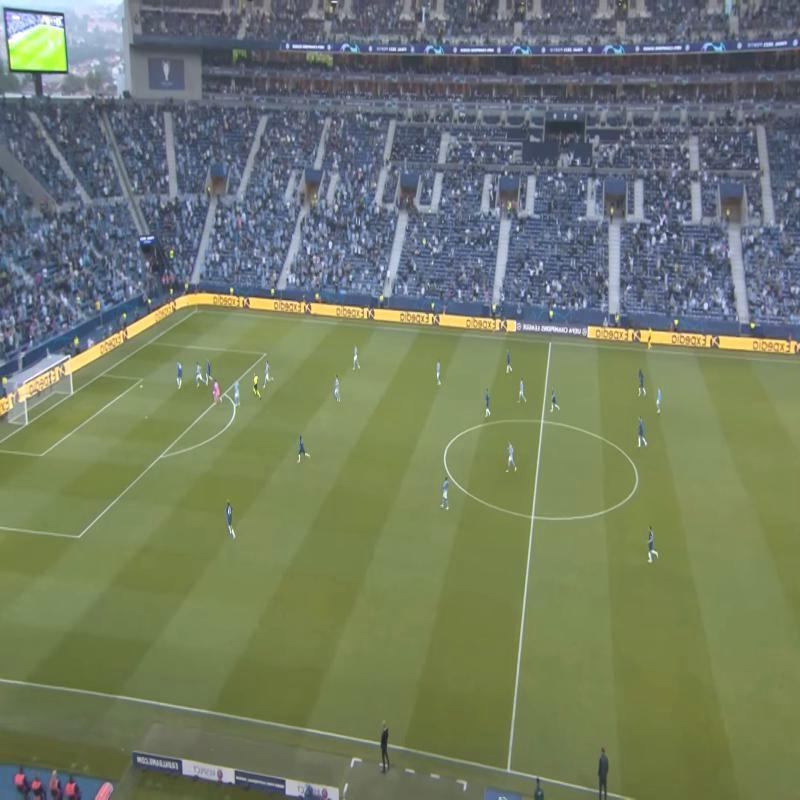1: (188, 303, 204, 318)
10: (217, 389, 231, 401)
11: (154, 450, 168, 463)
12: (72, 532, 86, 546)
13: (543, 338, 557, 351)
14: (536, 415, 549, 428)
15: (526, 510, 540, 524)
16: (500, 762, 516, 780)
2: (142, 335, 157, 349)
3: (94, 368, 109, 382)
7: (134, 372, 148, 386)
8: (34, 447, 48, 461)
9: (259, 347, 273, 361)
c: (436, 446, 453, 462), (630, 473, 644, 488)
